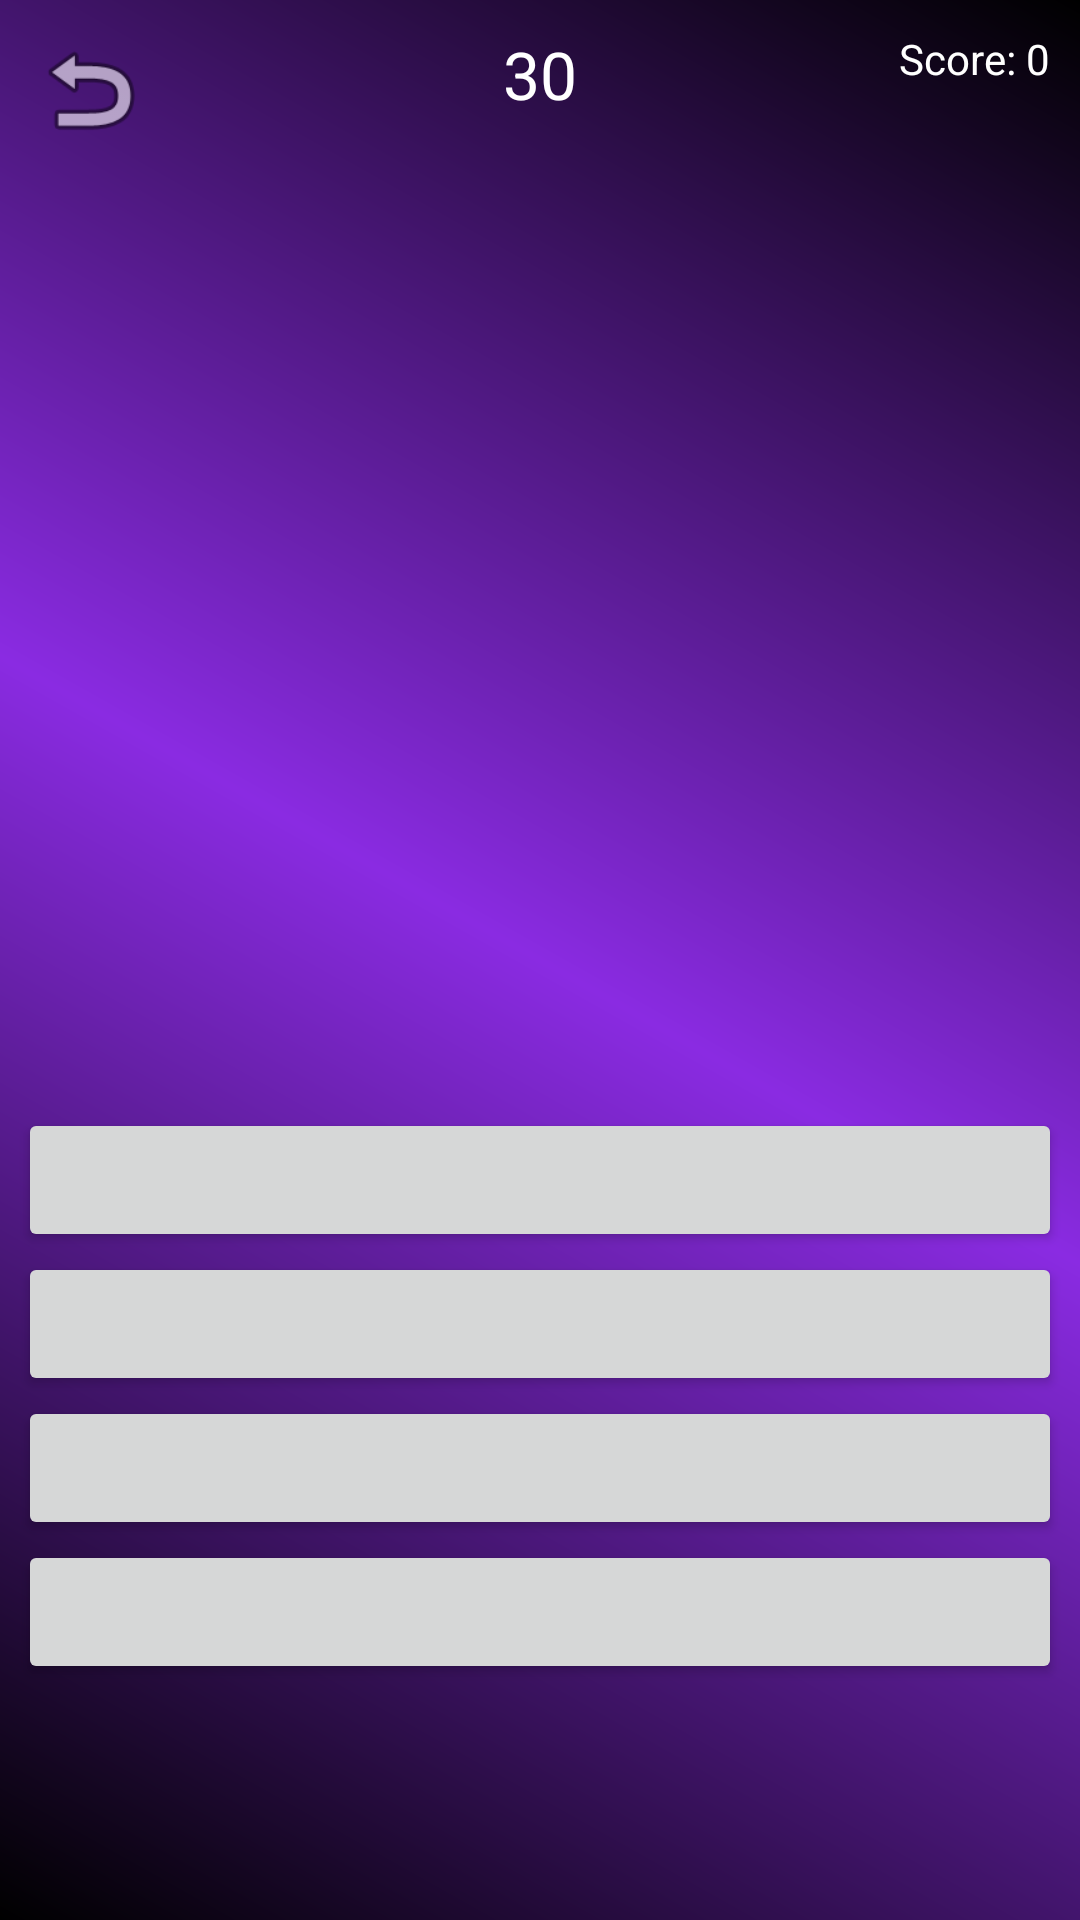

Locate icon controls on the screen. Image size 1080×1920, boxes as detection(x1, y1, x2, y2).
revert: detection(49, 52, 134, 129)
